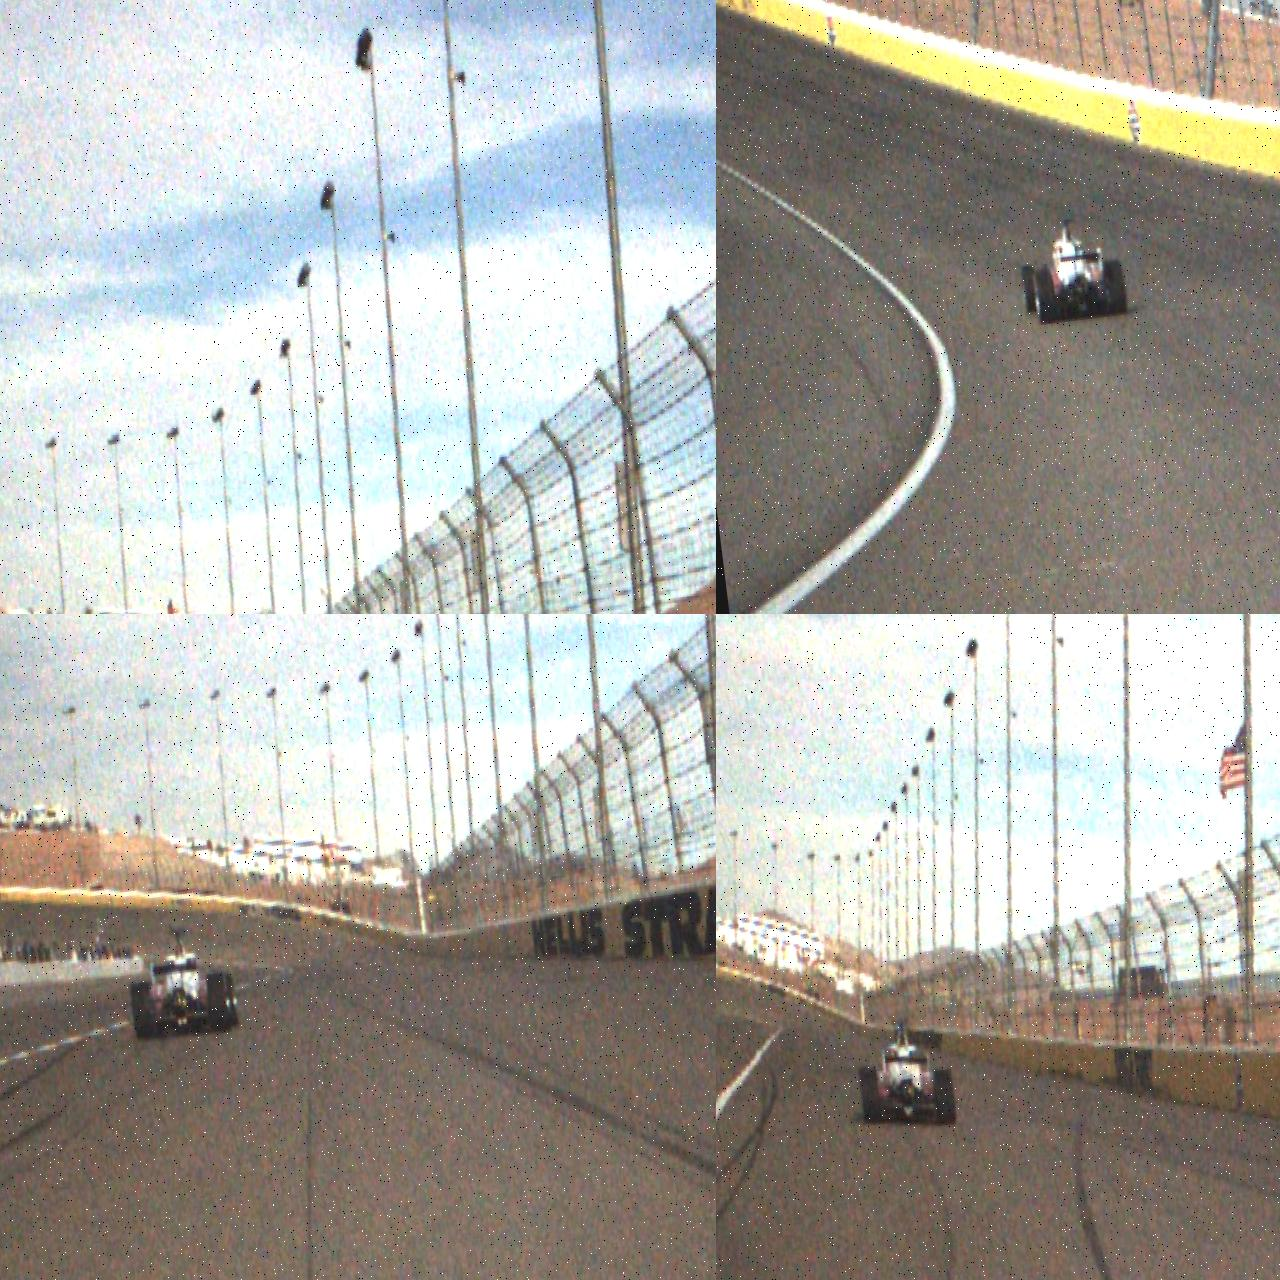AV: (124, 922, 241, 1042), (1014, 212, 1130, 328), (852, 1012, 959, 1136)
Wheel: (129, 981, 157, 1042), (205, 972, 231, 1034), (933, 1067, 959, 1126), (858, 1065, 884, 1125), (1033, 268, 1058, 326), (1104, 259, 1129, 316), (1019, 265, 1041, 314), (222, 974, 239, 1027)
